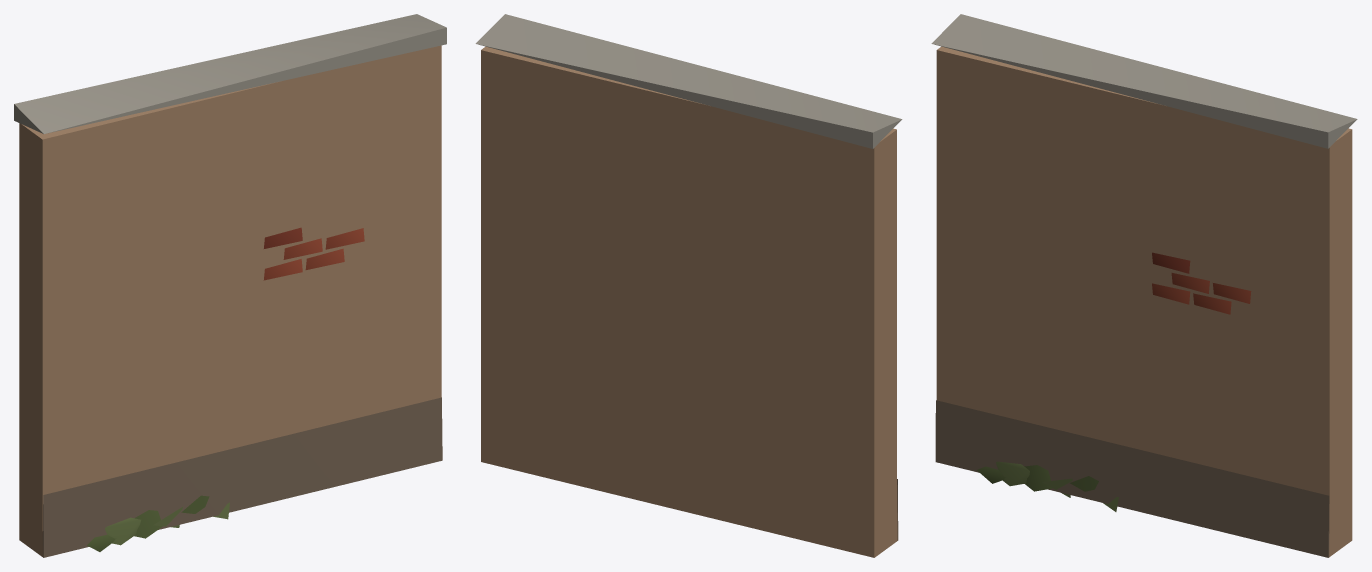
The model's file is tuong_rao.glb.
3 views of the same model, side by side, from view 1: azimuth 30°, elevation 25°; view 2: azimuth 150°, elevation 25°; view 3: azimuth 330°, elevation 25° (orthographic).
Parts seen in each view (by area): view 1: tuong_rao; view 2: tuong_rao; view 3: tuong_rao.
Boxes of the visible parts, bbox=[...] form: tuong_rao: bbox=[14, 14, 446, 557]; tuong_rao: bbox=[475, 14, 902, 557]; tuong_rao: bbox=[931, 14, 1357, 557].
Bounding box in the file's own units: 2.02 × 2.12 × 0.26.
